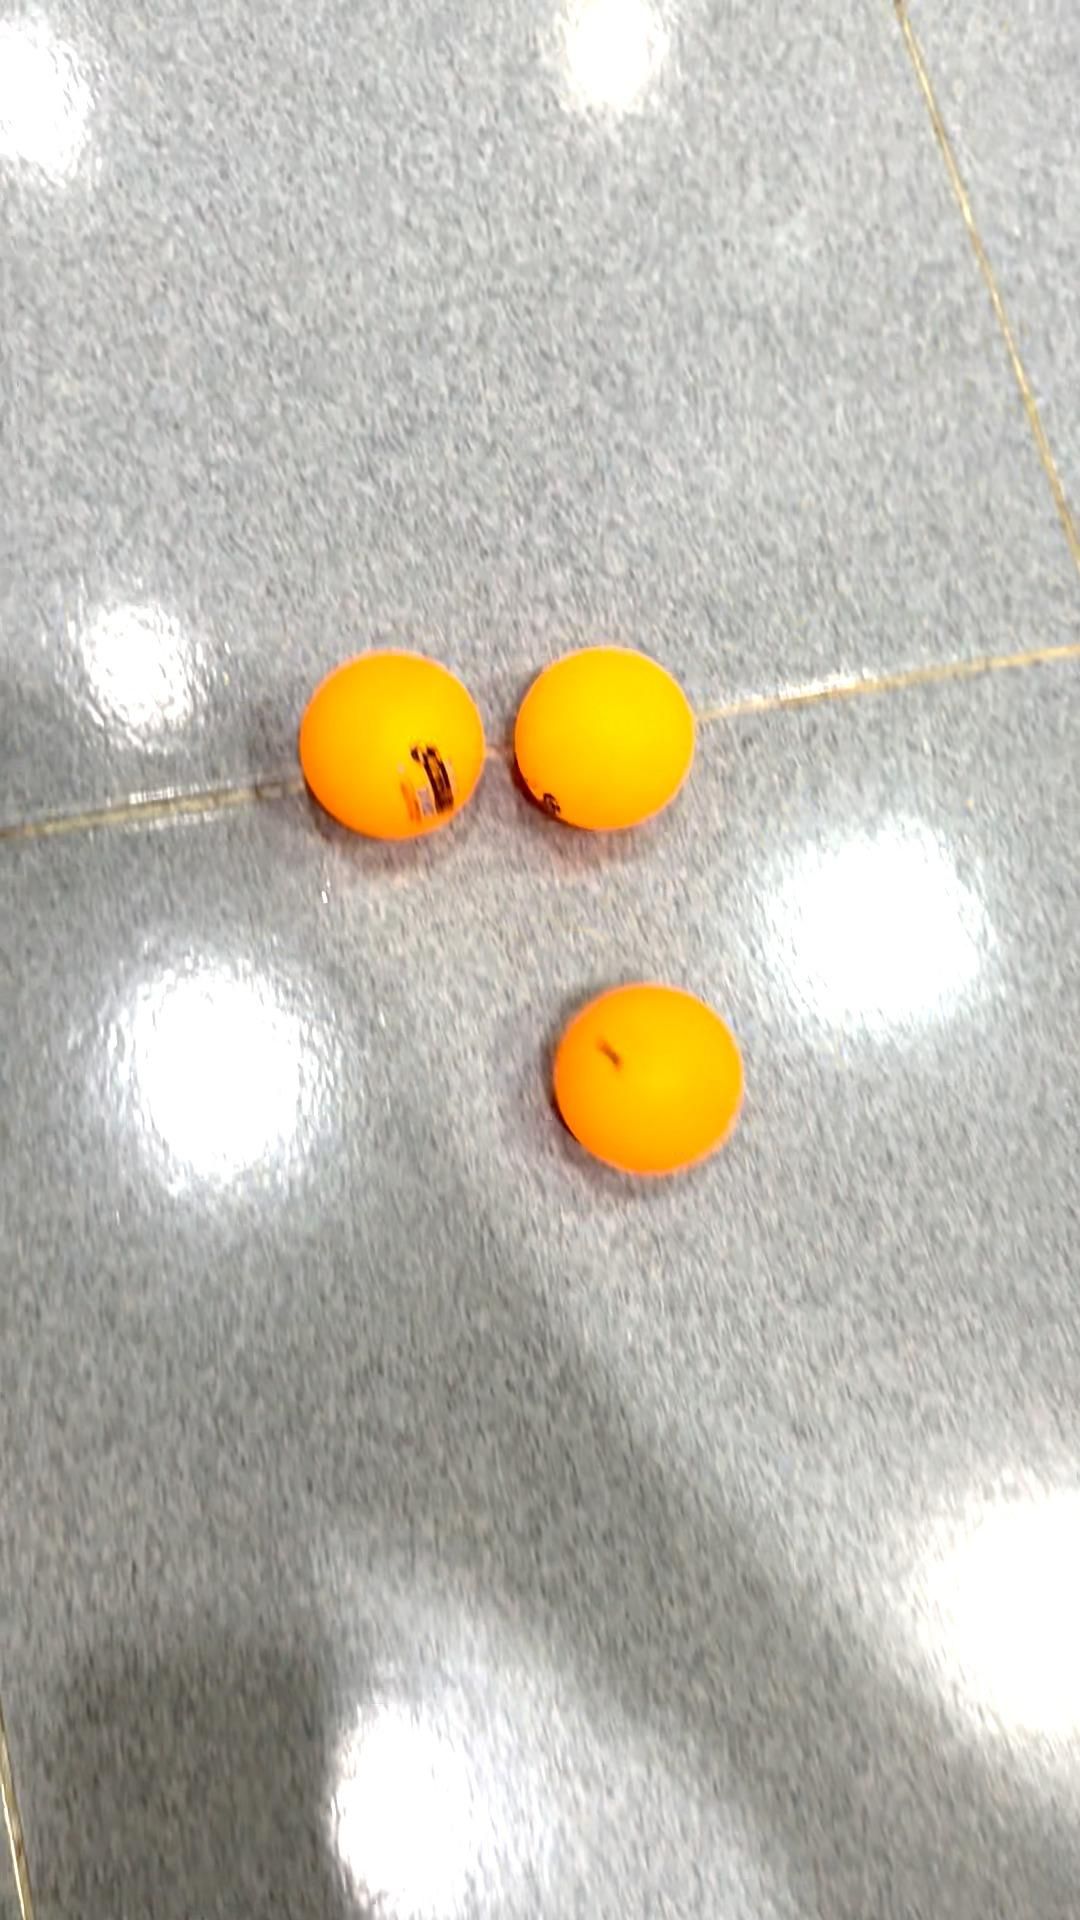oball: (534, 982, 744, 1192), (294, 636, 477, 847), (513, 638, 702, 835)
